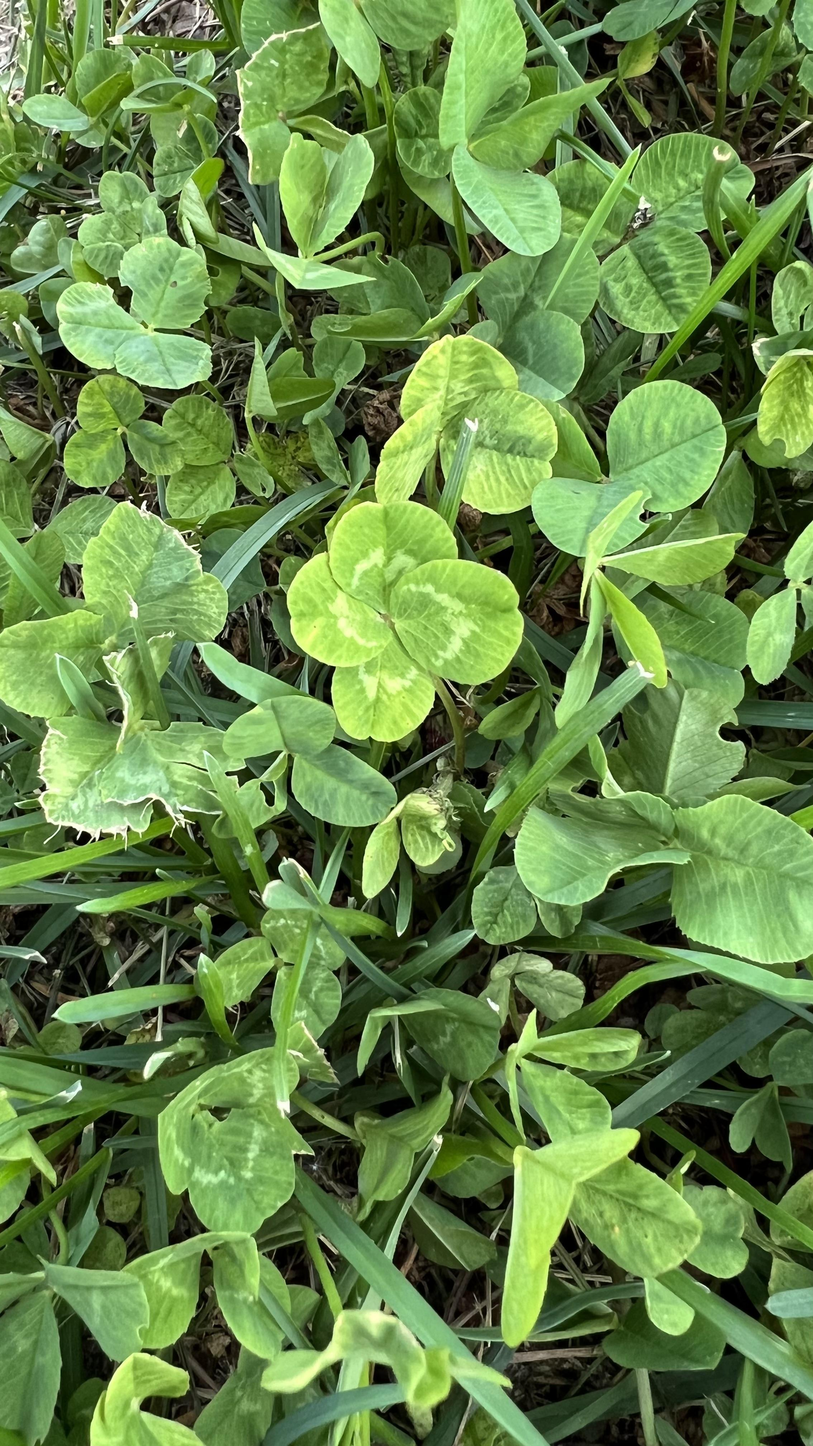4-Leaf-Clovers: (281, 512, 417, 937)
